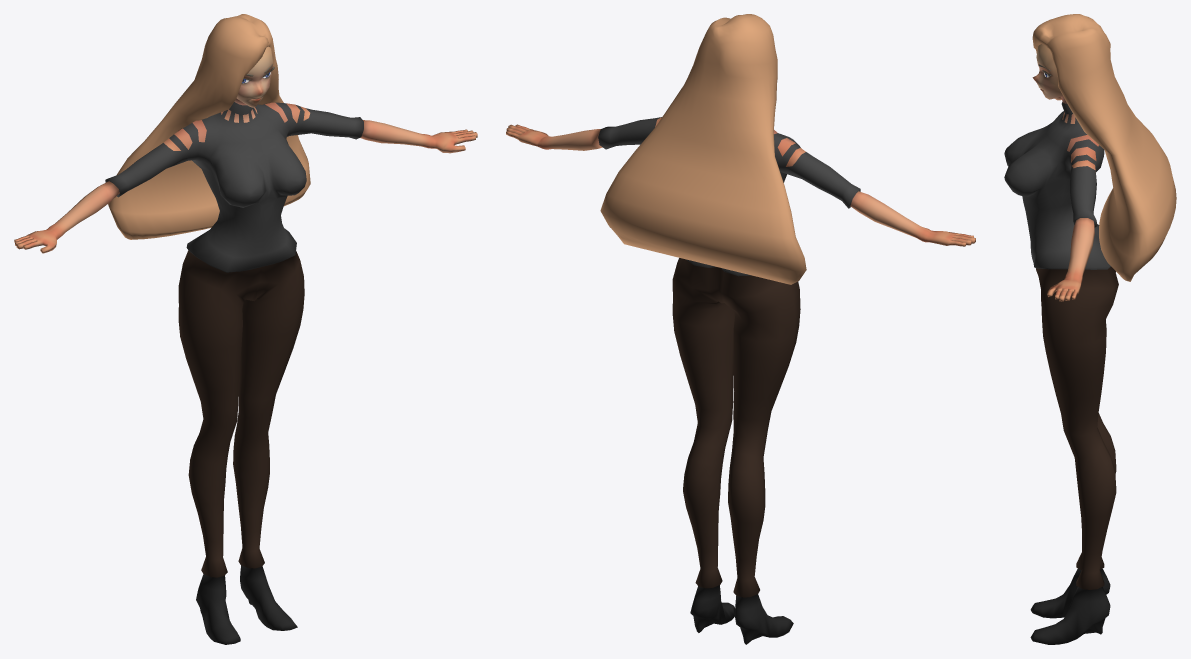
The picture shows the model from 3 angles, left to right: view 1: azimuth 30°, elevation 25°; view 2: azimuth 150°, elevation 25°; view 3: azimuth 270°, elevation 25°; orthographic projection.
Visible parts, largest first — view 1: Body.002, Sphere.003; view 2: Body.002, Sphere.003; view 3: Body.002, Sphere.003.
Part boxes in pixels (bbox=[...]): Body.002: bbox=[14, 46, 477, 644]; Sphere.003: bbox=[108, 14, 310, 239]; Body.002: bbox=[506, 117, 975, 644]; Sphere.003: bbox=[600, 14, 806, 284]; Body.002: bbox=[1004, 44, 1118, 644]; Sphere.003: bbox=[1032, 14, 1176, 281].
Bounding box in the file's own units: 3.57 × 4.5 × 1.16.
8 materials, 2 textured.
